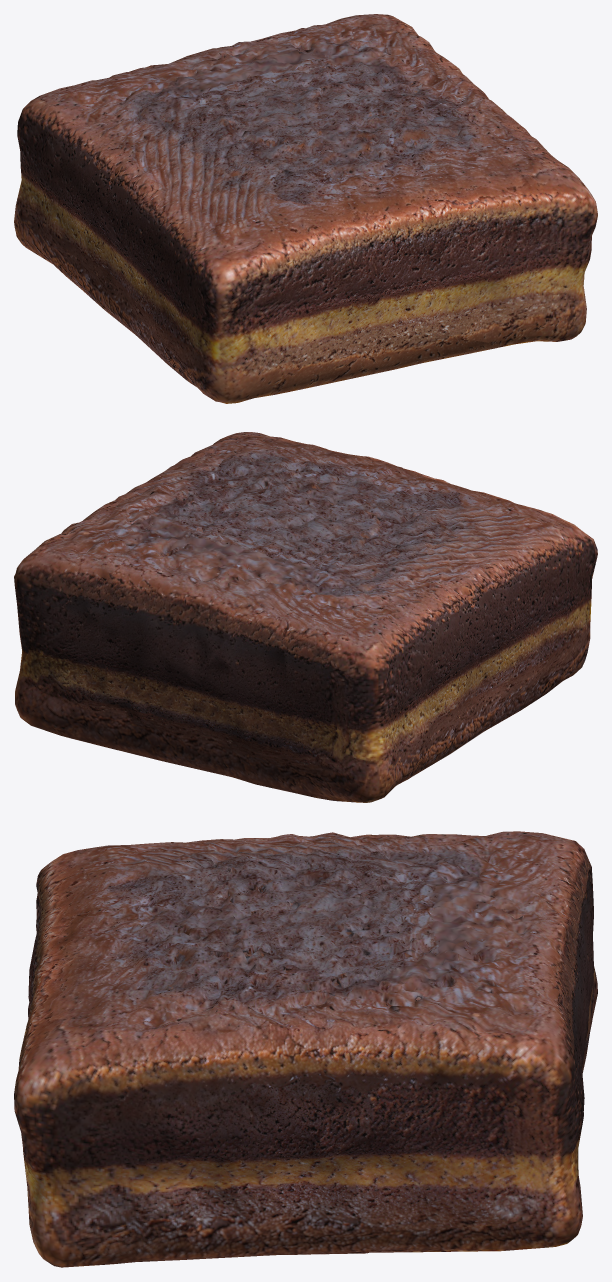
Rendered from brownie.glb.
3 views of the same model, one above another, from view 1: azimuth 30°, elevation 25°; view 2: azimuth 150°, elevation 25°; view 3: azimuth 270°, elevation 25° (orthographic). The views are drawn at different scales.
Bounding box in the file's own units: 1.17 × 0.5996 × 1.2.
Materials: 1 (1 with a texture image).
